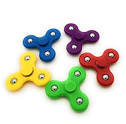fidget_kid_spinner_toys: (44, 60, 95, 107), (79, 44, 121, 92), (60, 12, 99, 52), (7, 57, 48, 91), (22, 26, 57, 57)
